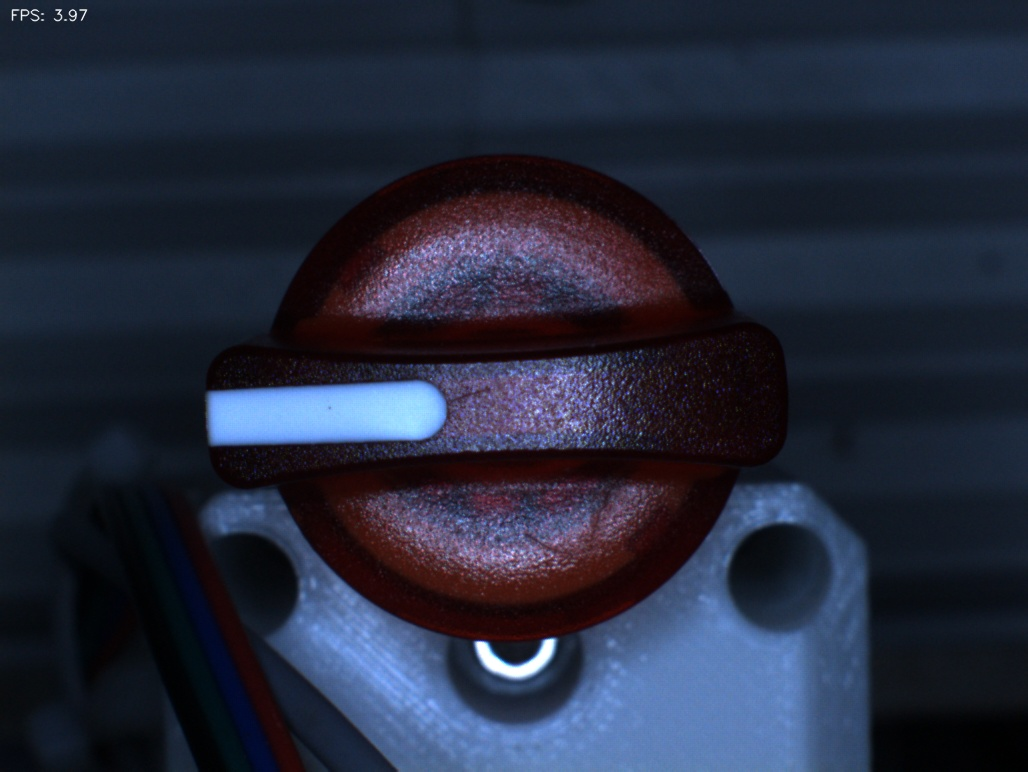PointNoir: (300, 385, 370, 438)
